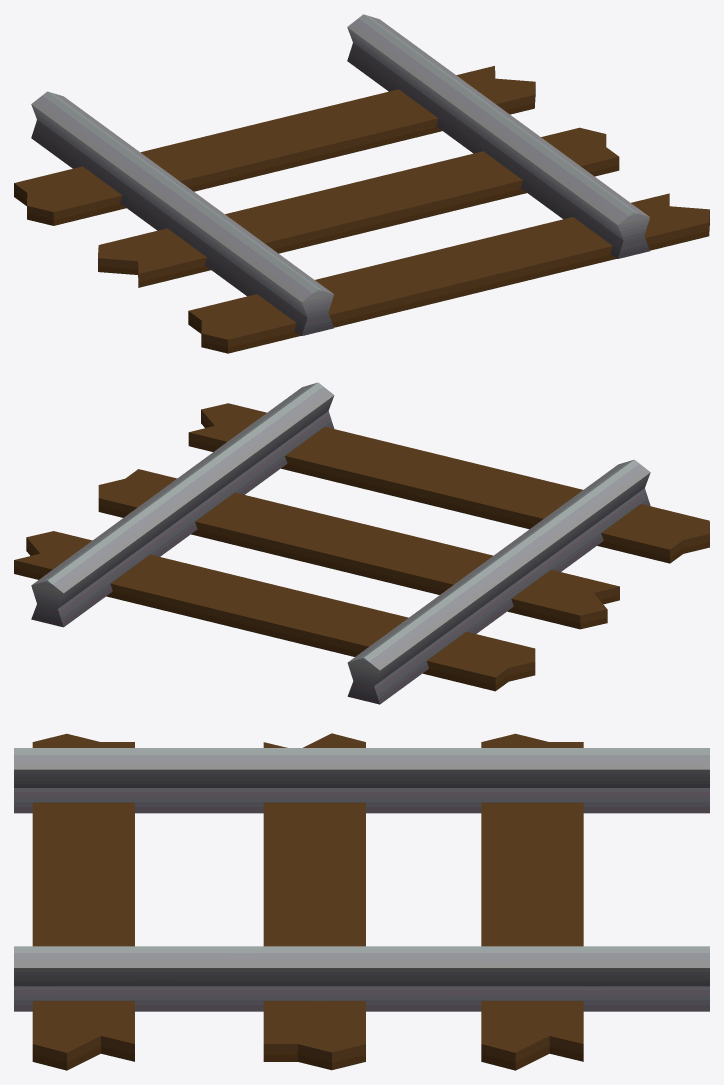
File: SM_TrackStraight.fbx
3 renders of one model, top to bottom at view 1: azimuth 30°, elevation 25°; view 2: azimuth 150°, elevation 25°; view 3: azimuth 270°, elevation 25°, orthographic. The views are drawn at different scales.
Parts seen in each view (by area): view 1: SM_TrackStraight; view 2: SM_TrackStraight; view 3: SM_TrackStraight.
Boxes of the visible parts, x1,y1,x2,y2 form: SM_TrackStraight: [14, 14, 709, 353]; SM_TrackStraight: [14, 382, 709, 704]; SM_TrackStraight: [14, 733, 709, 1070].
Bounding box in the file's own units: 38.52 × 3.57 × 35.45.
